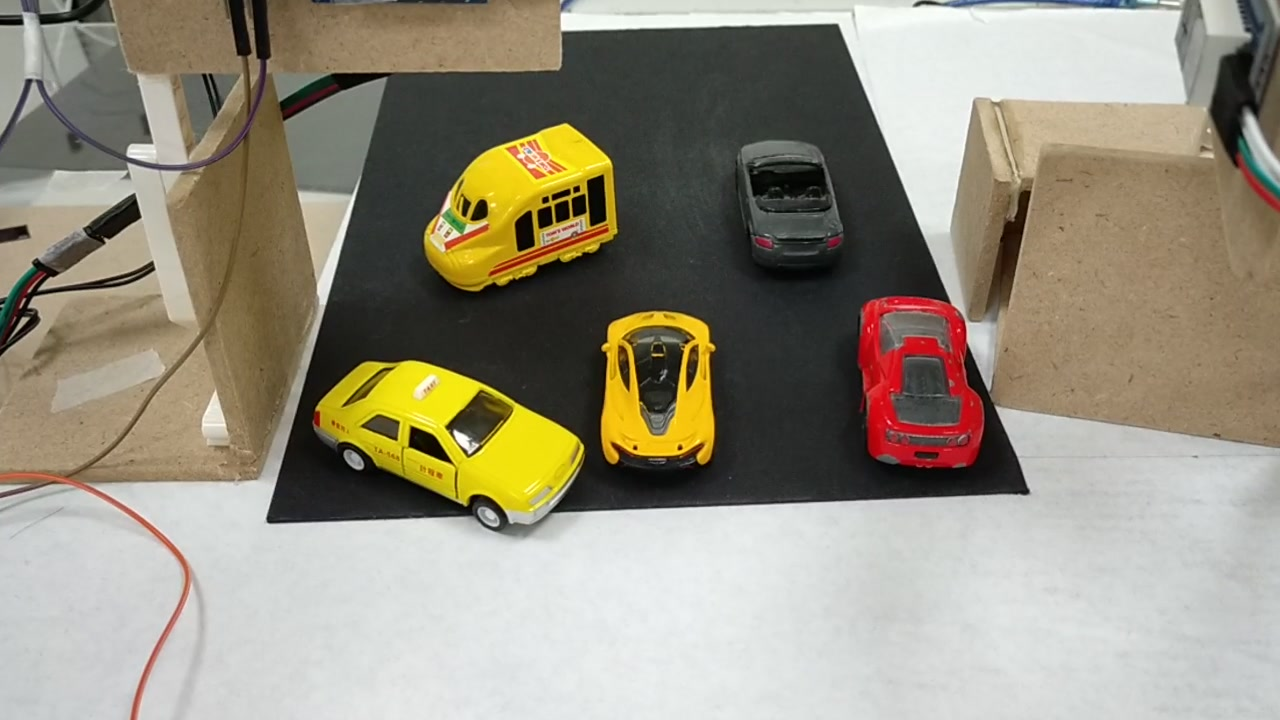car: (312, 351, 582, 524), (858, 294, 984, 474), (601, 306, 716, 468), (731, 133, 847, 270)
